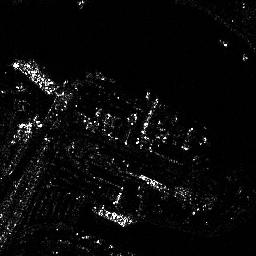ship: (92, 206, 130, 228)
